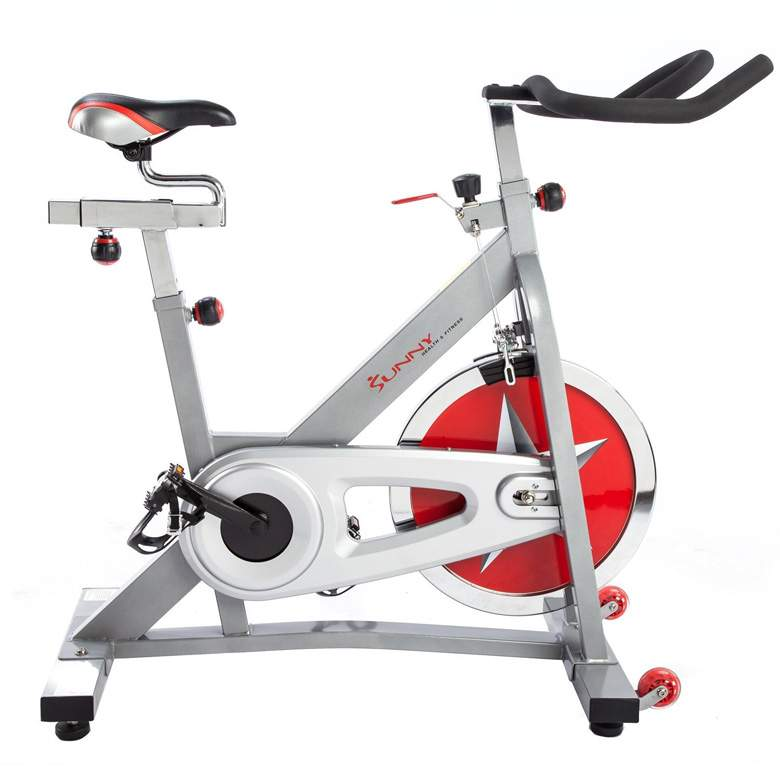gym_bike: (37, 30, 759, 746)
